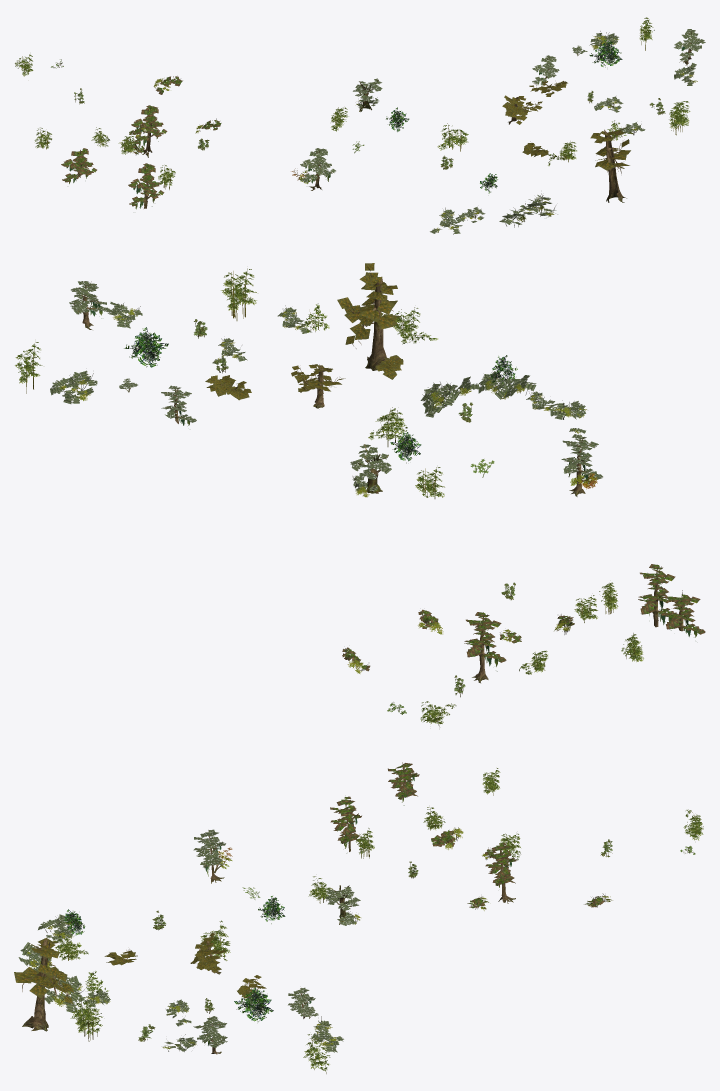
The model's file is S_Tree_3100_011.FBX.
The picture shows the model from 3 angles, top to bottom: view 1: azimuth 30°, elevation 25°; view 2: azimuth 150°, elevation 25°; view 3: azimuth 270°, elevation 25°; orthographic projection. The views are drawn at different scales.
Parts seen in each view (by area): view 1: S_Tree_Yellow053_A1, S_Tree_Green027_A3, S_Tree_Green027_A2, S_Tree_Green027_A4, S_Tree_Green027_A1, S_Tree_Green027_A5, S_Tree_Yellow053_A2, S_Tree_Green051_A1, S_Tree_Green022_005, S_Tree_Green004_1_A4, S_Tree_Green027_A6, S_Tree_Green004_1_A2 (+1 smaller); view 2: S_Tree_Yellow053_A1, S_Tree_Green027_A2, S_Tree_Green027_A3, S_Tree_Green018_026, S_Tree_Green027_A4, S_Tree_Green022_005, S_Tree_Green027_A5, S_Tree_Green018_025, S_Tree_Green027_A1, S_Tree_Green018_027, S_Tree_Green004_1_A4, S_Tree_Green051_A1; view 3: S_Tree_Yellow053_A1, S_Tree_Green027_A2, S_Tree_Green027_A3, S_Tree_Green027_A4, S_Tree_Green051_A1, S_Tree_Green004_1_A4, S_Tree_Green018_026, S_Tree_Green027_A1, S_Tree_Green027_A5, S_Tree_Green022_005, S_Tree_Green018_025, S_Tree_Yellow053_A2.
Boxes of the visible parts, box(x1,y1,x2,y2) form: S_Tree_Yellow053_A1: box(590, 127, 630, 202); S_Tree_Green027_A3: box(128, 163, 164, 209); S_Tree_Green027_A2: box(131, 105, 167, 157); S_Tree_Green027_A4: box(300, 148, 335, 190); S_Tree_Green027_A1: box(61, 148, 96, 183); S_Tree_Green027_A5: box(674, 29, 705, 65); S_Tree_Yellow053_A2: box(502, 95, 527, 124); S_Tree_Green051_A1: box(589, 40, 622, 67); S_Tree_Green022_005: box(353, 78, 382, 111); S_Tree_Green004_1_A4: box(669, 101, 690, 135); S_Tree_Green027_A6: box(532, 55, 559, 84); S_Tree_Green004_1_A2: box(437, 123, 468, 151); S_Tree_Yellow053_A1: box(337, 263, 400, 370); S_Tree_Green027_A2: box(464, 612, 506, 683); S_Tree_Green027_A3: box(638, 564, 675, 630); S_Tree_Green018_026: box(420, 376, 479, 417); S_Tree_Green027_A4: box(561, 434, 602, 496); S_Tree_Green022_005: box(350, 444, 391, 493); S_Tree_Green027_A5: box(69, 281, 111, 329); S_Tree_Green018_025: box(50, 370, 97, 403); S_Tree_Green027_A1: box(663, 590, 705, 637); S_Tree_Green018_027: box(478, 371, 536, 399); S_Tree_Green004_1_A4: box(221, 268, 256, 320); S_Tree_Green051_A1: box(124, 327, 168, 367); S_Tree_Yellow053_A1: box(14, 938, 73, 1031); S_Tree_Green027_A2: box(485, 843, 516, 903); S_Tree_Green027_A3: box(330, 796, 361, 853); S_Tree_Green027_A4: box(193, 829, 225, 883); S_Tree_Green051_A1: box(234, 988, 273, 1021); S_Tree_Green004_1_A4: box(70, 995, 102, 1041); S_Tree_Green018_026: box(44, 969, 84, 1012); S_Tree_Green027_A1: box(388, 762, 419, 805); S_Tree_Green027_A5: box(193, 1016, 227, 1054); S_Tree_Green022_005: box(325, 885, 360, 924); S_Tree_Green018_025: box(311, 1016, 343, 1052); S_Tree_Yellow053_A2: box(190, 932, 226, 974).
Size of the model in its own units: 23587 by 4474 by 20952.
